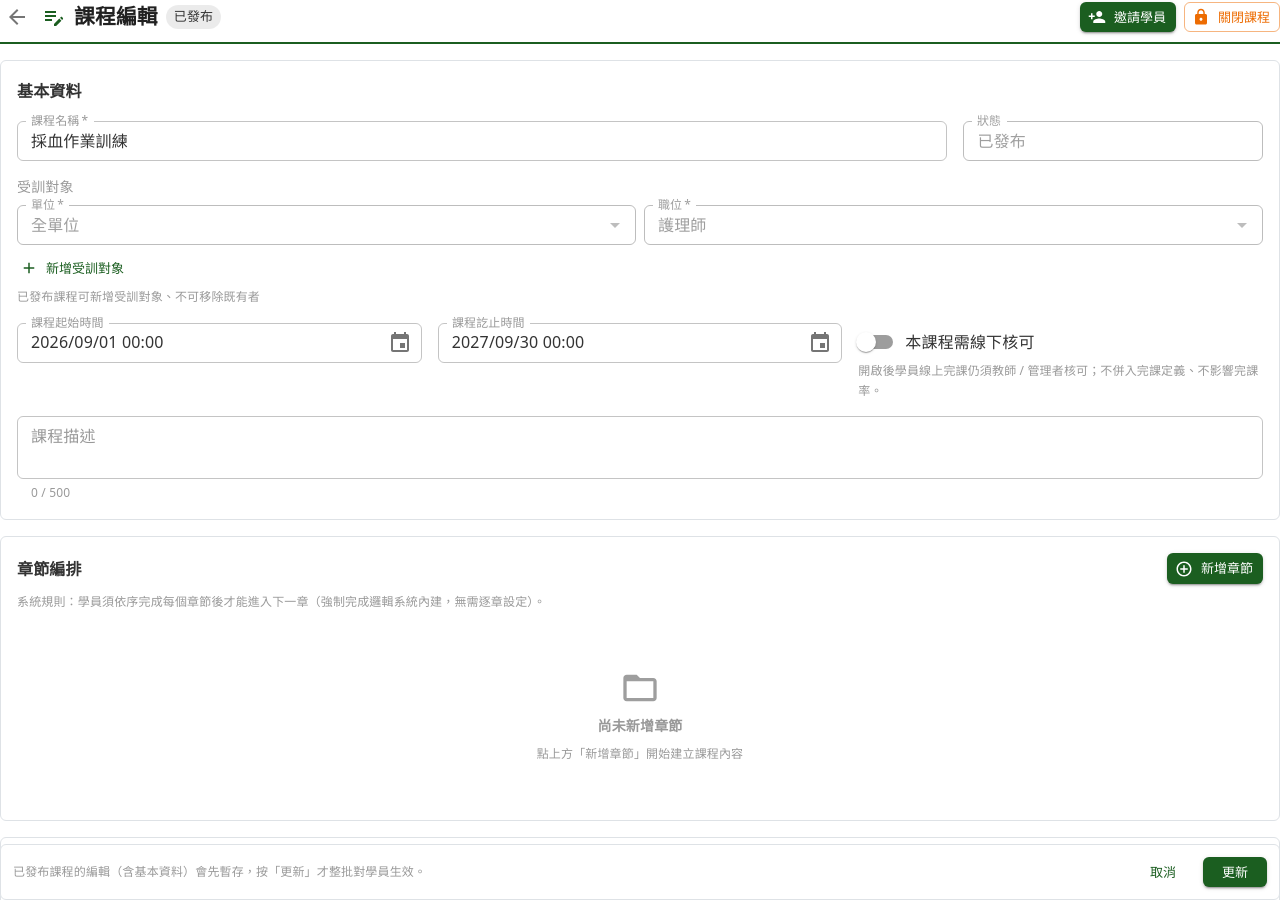
ET05 課程關閉與再開課 › 確認關閉時送出當前版本（樂觀鎖）
Click the button "關閉課程" at (1232, 17), box [1184,2,1279,32]
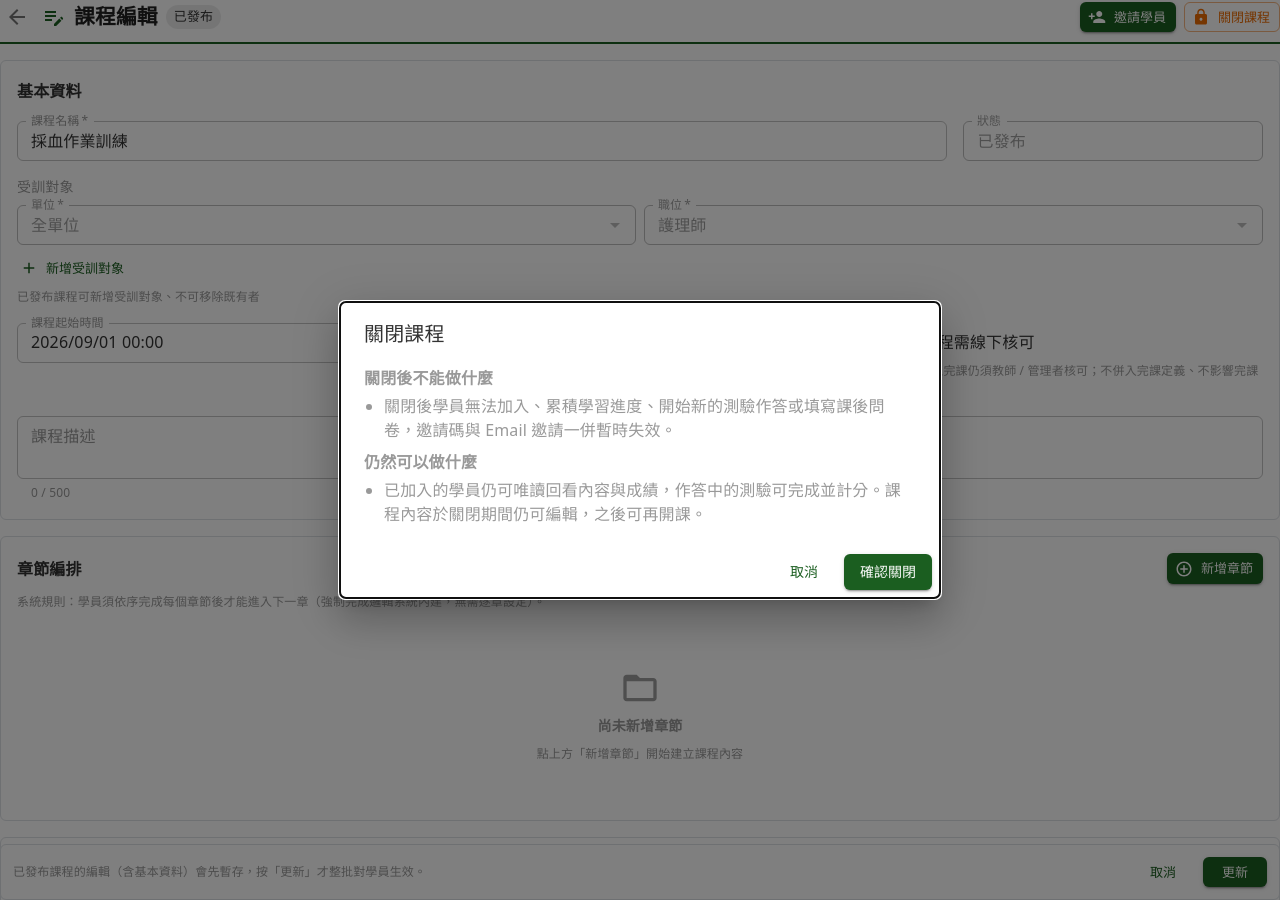
Click the button "確認關閉" at (888, 572), box [844,554,932,590]
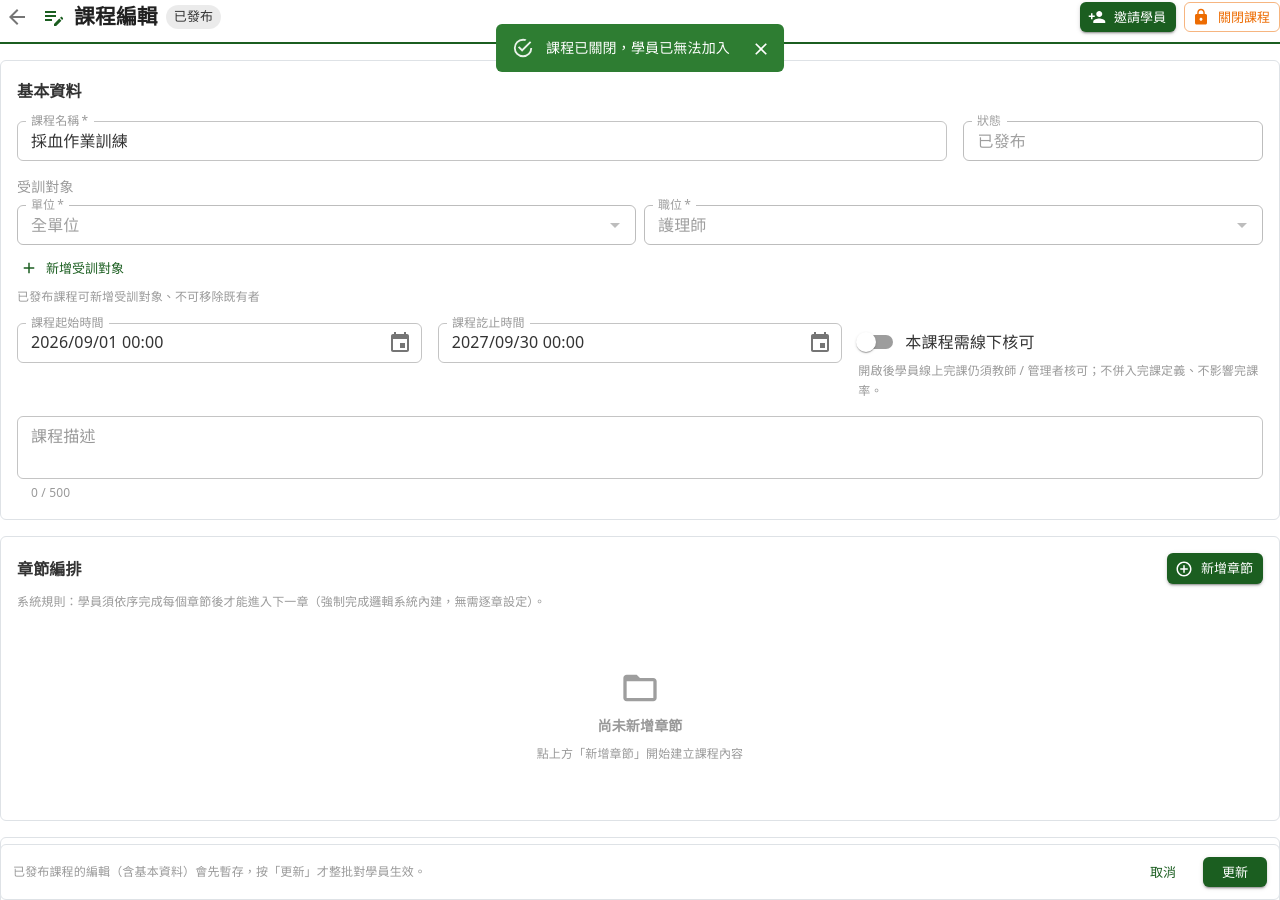
Now the text "課程已關閉，學員已無法加入" is shown, box [546,38,730,57]
